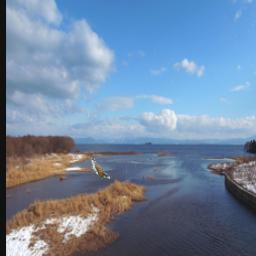Cuckoo: (90, 159, 111, 180)
